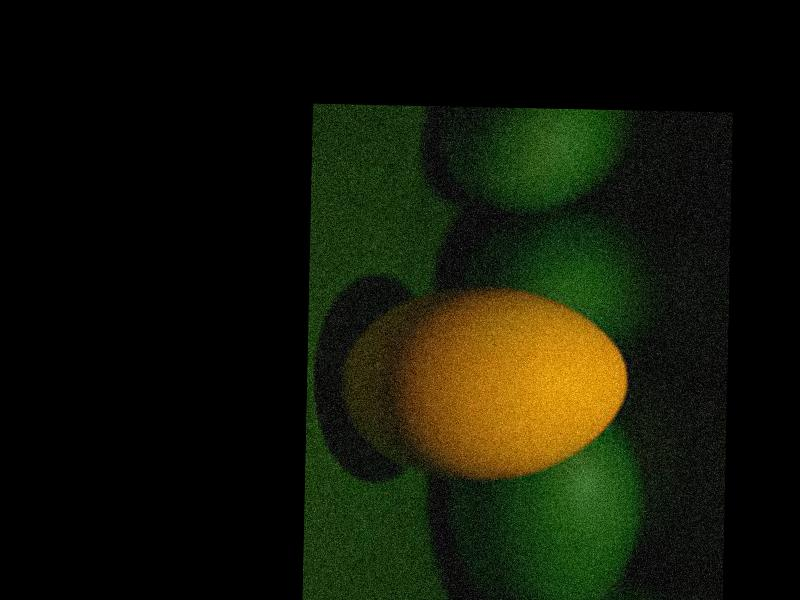Eggs: (339, 283, 627, 483)
